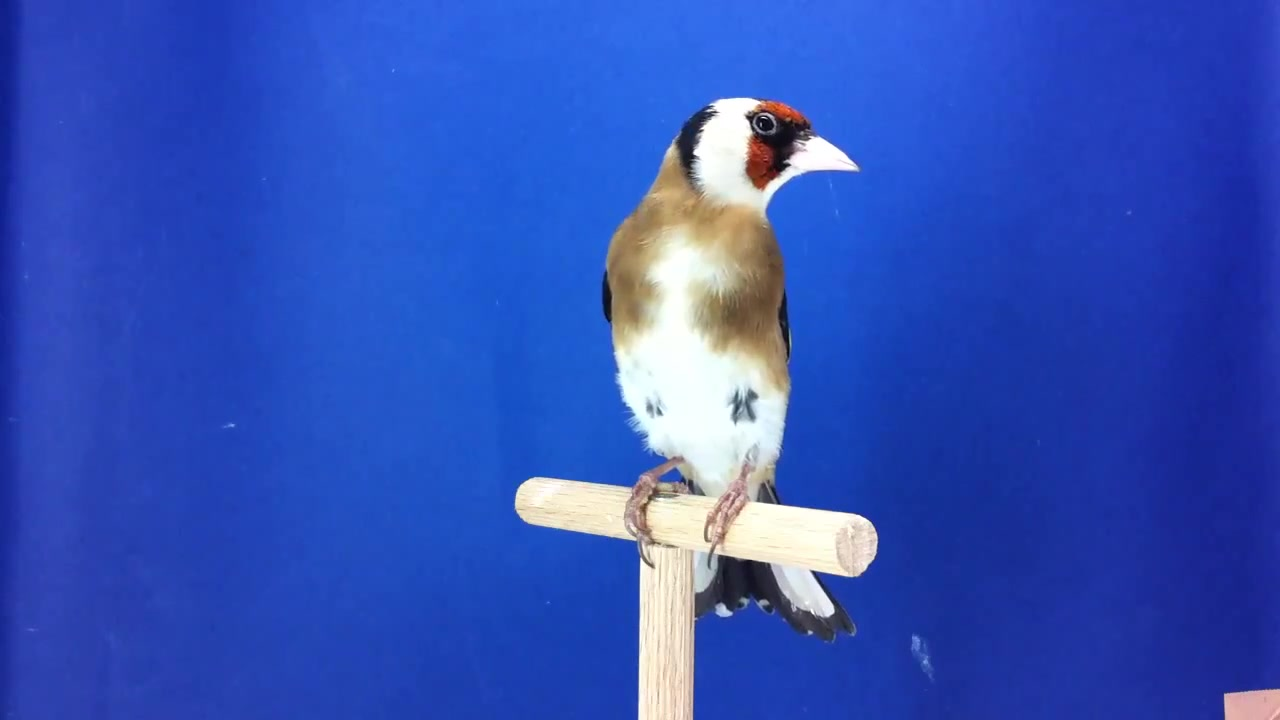bird: (602, 96, 862, 645)
